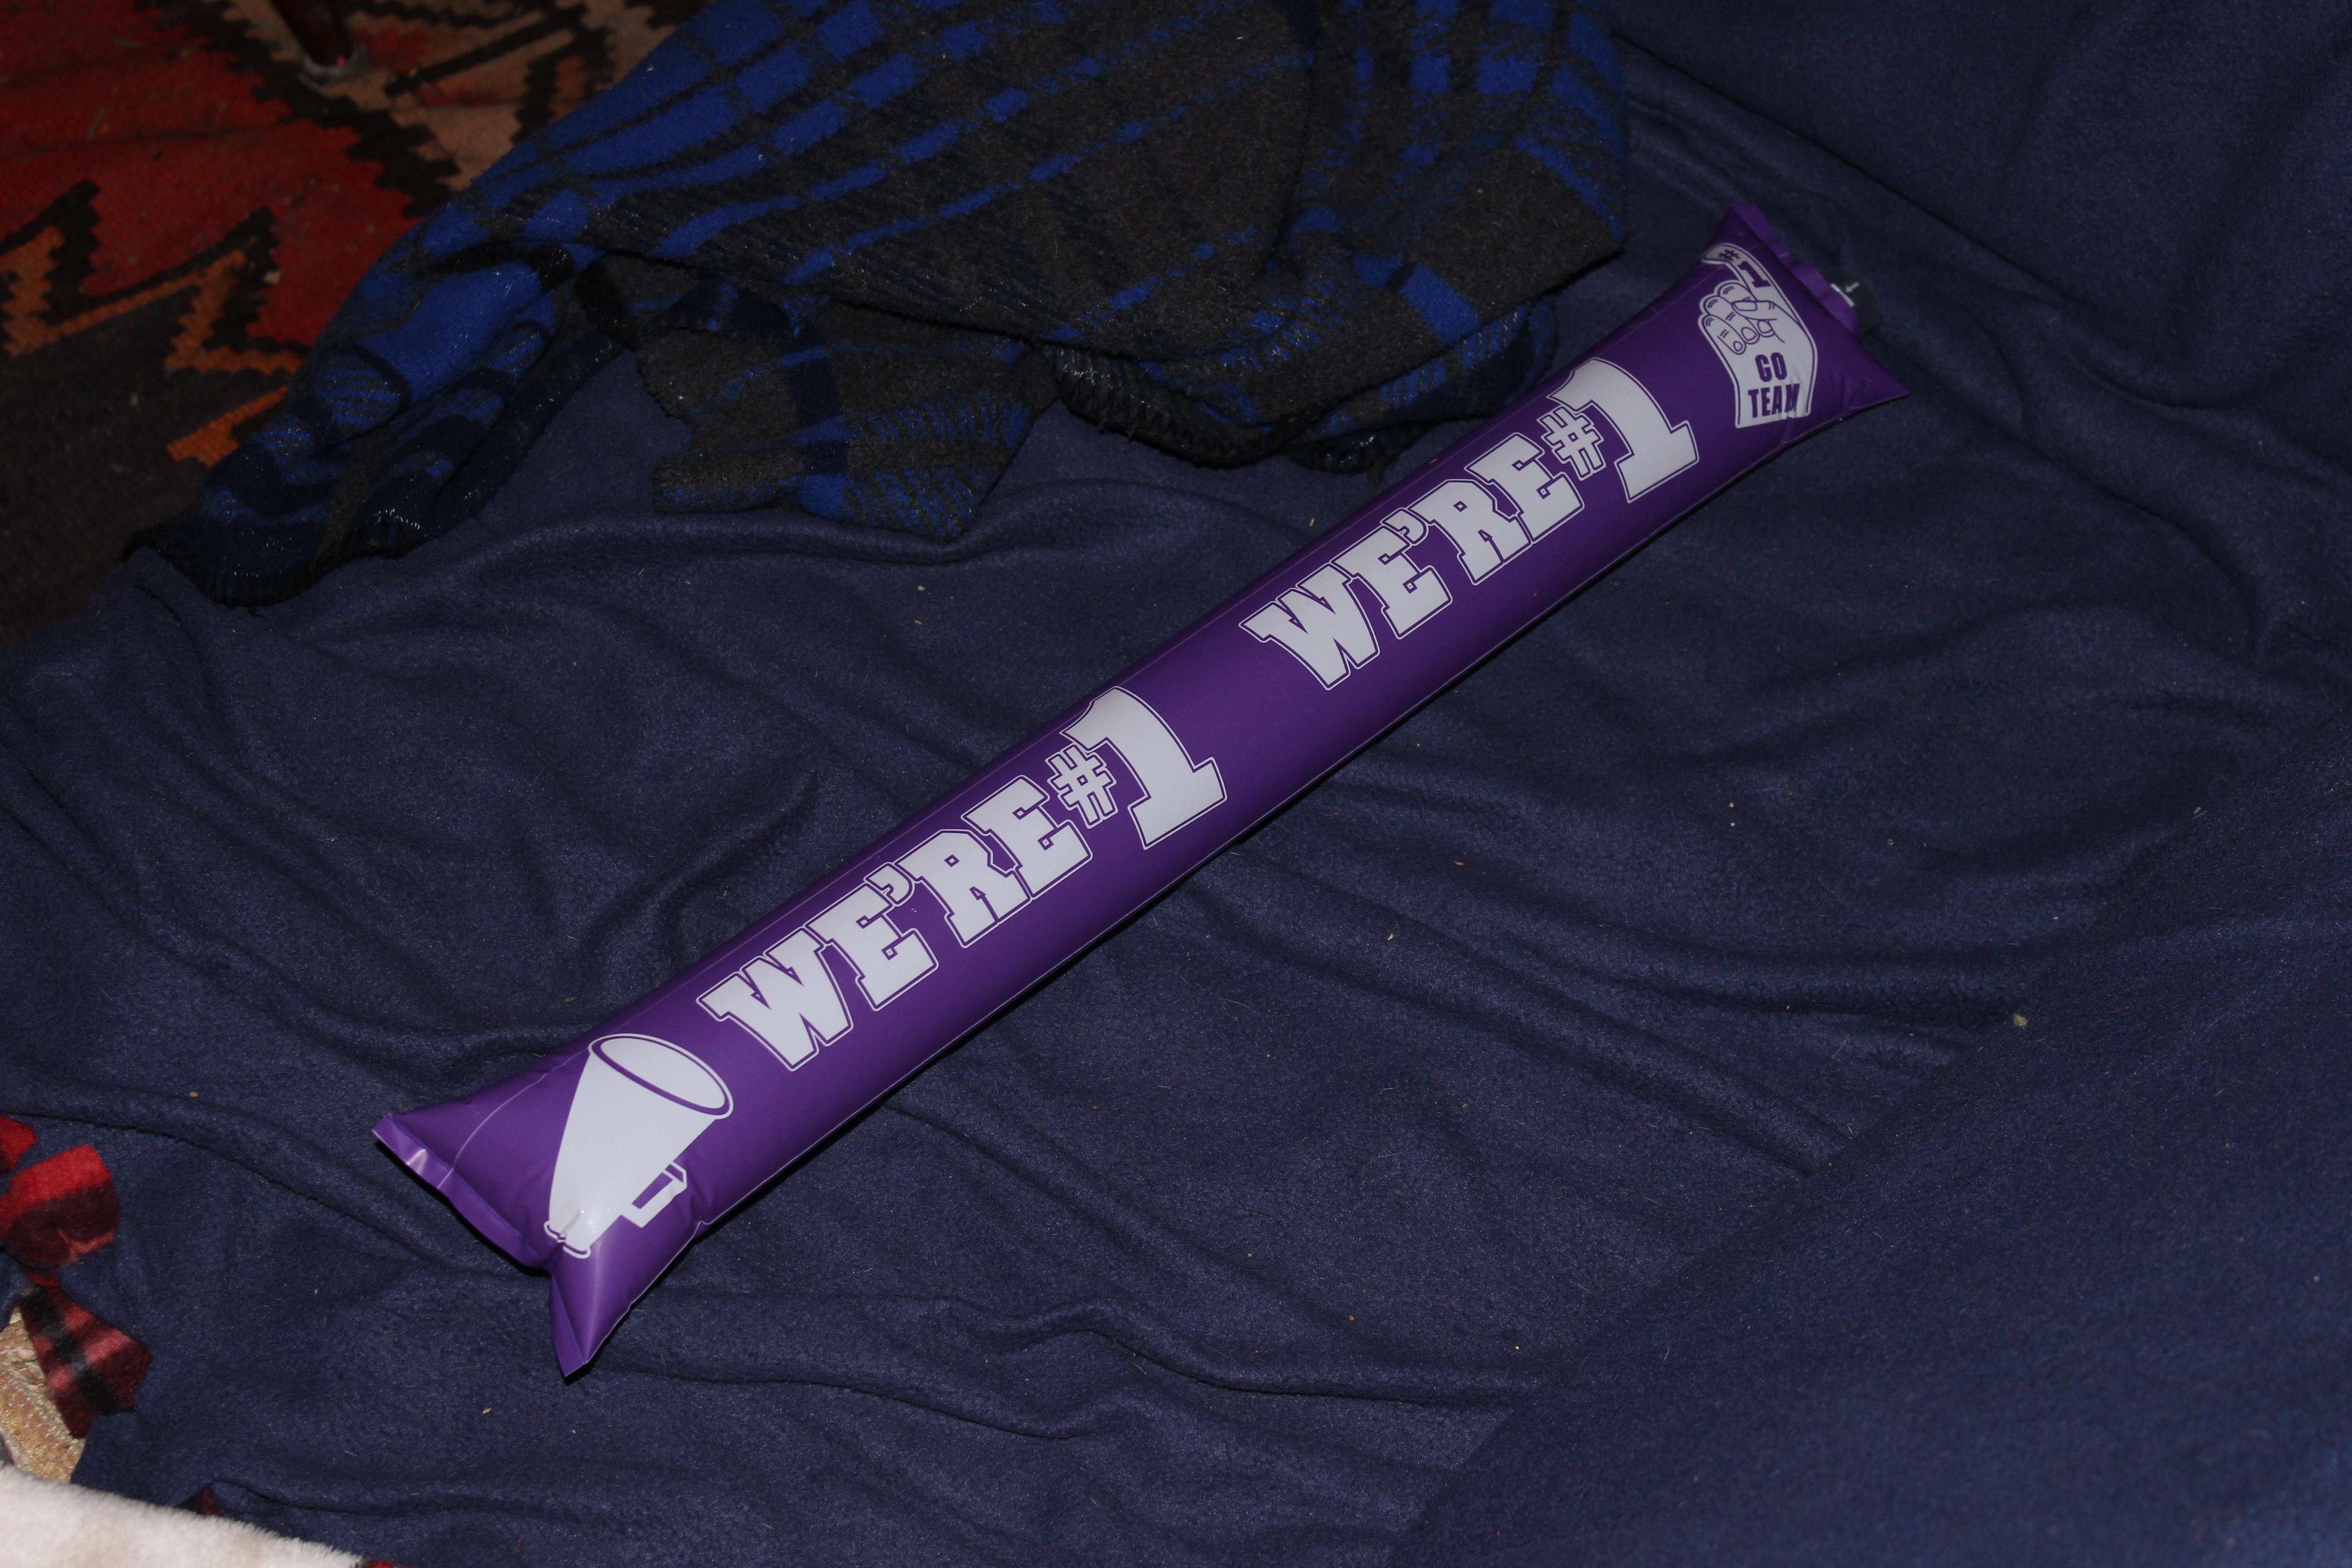noisemaker: (360, 163, 1951, 1405)
